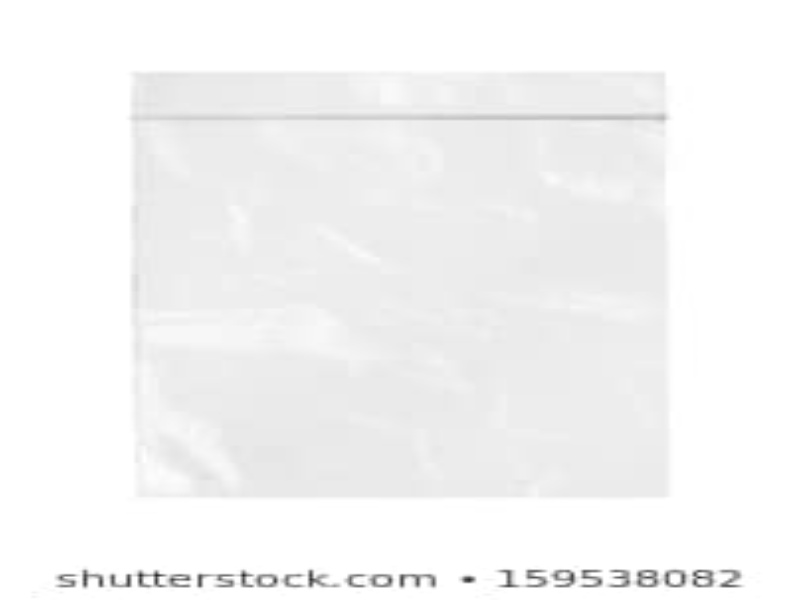plastic-bag: (120, 64, 674, 502)
